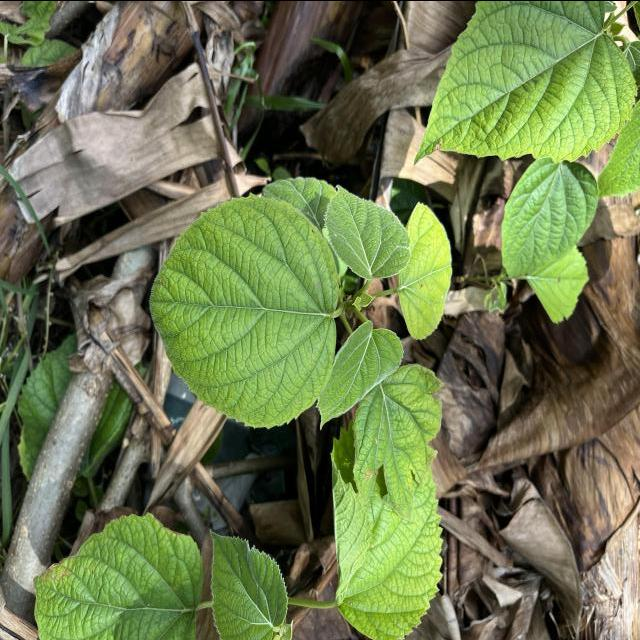Clerodendrum infortunatum: (148, 188, 341, 430), (411, 0, 640, 165), (326, 415, 448, 640), (38, 515, 205, 640), (500, 156, 599, 280), (316, 319, 404, 430), (208, 524, 290, 640), (322, 182, 412, 280), (398, 200, 454, 340)
